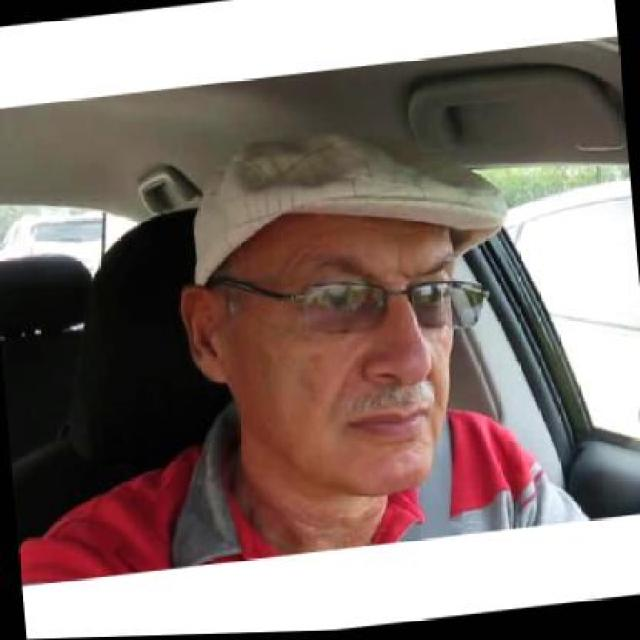attentif: (170, 116, 508, 518)
